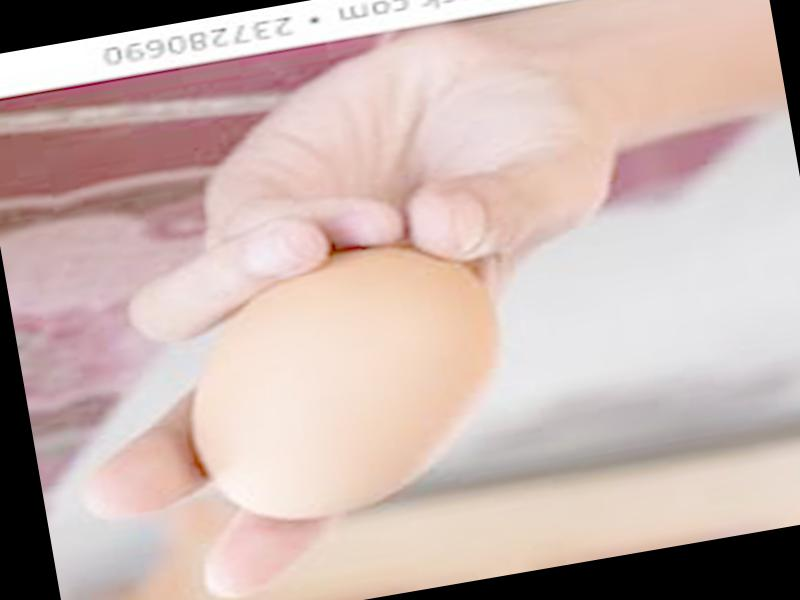Eggs: (164, 232, 521, 534)
